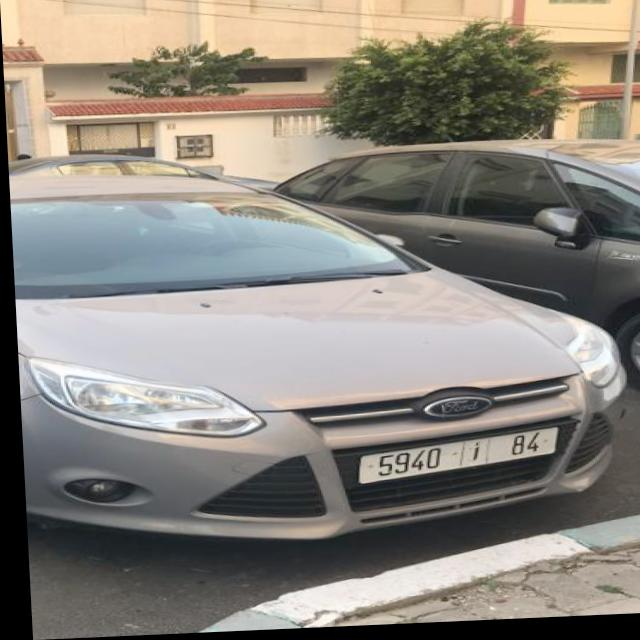License-Plate: (354, 433, 552, 486)
